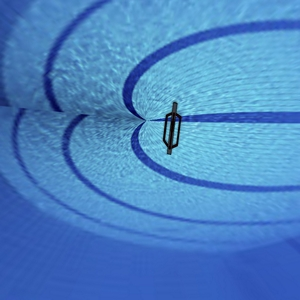submarine: (149, 88, 189, 169)
